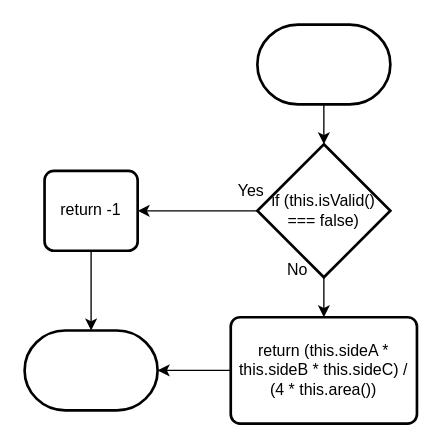
Image size: 440x447. Some labels were removed from this diagram. Each missing label, with the box of its shape:
Start: (255, 23, 391, 105)
Stop: (23, 329, 158, 411)
